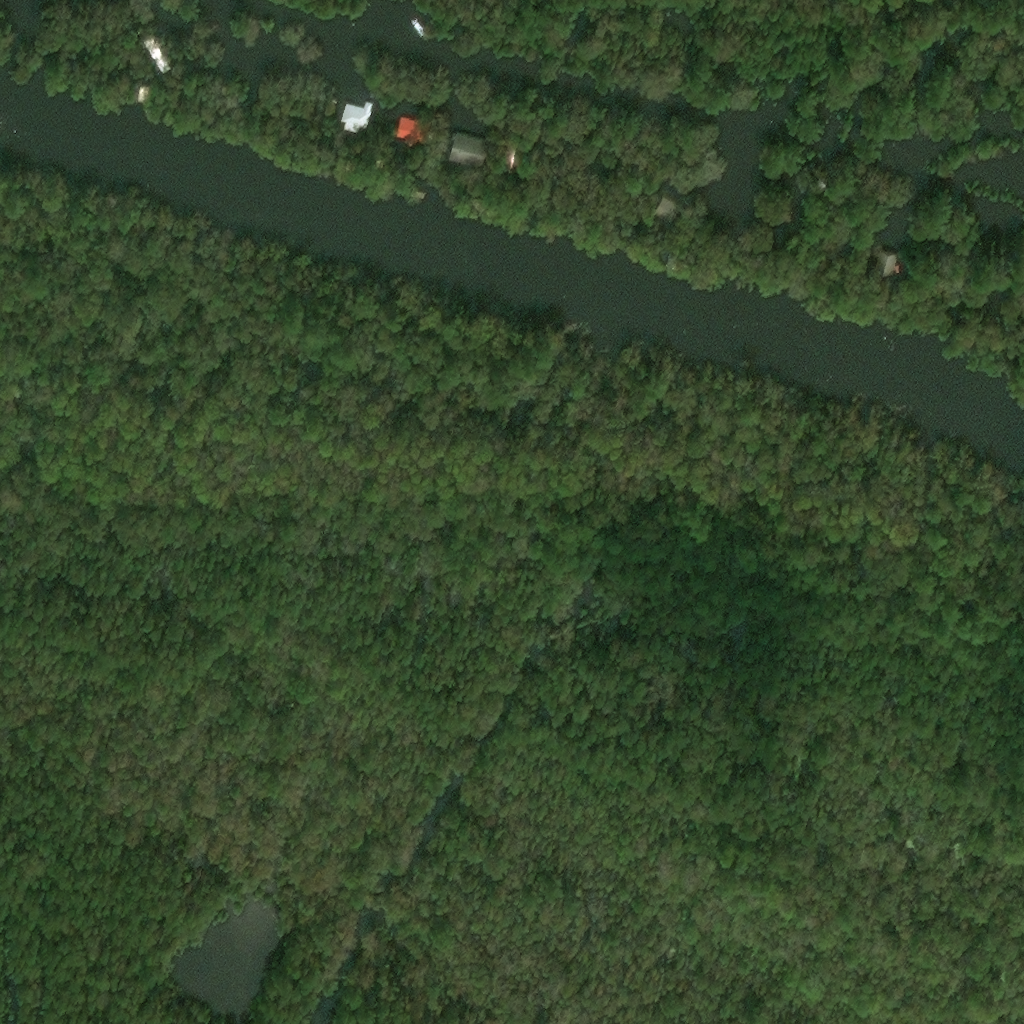major_damage: (444, 130, 483, 160), (391, 115, 431, 143), (336, 98, 371, 129), (139, 36, 168, 70), (650, 192, 680, 222), (873, 248, 895, 272), (11, 0, 38, 18), (774, 200, 792, 215), (499, 159, 517, 172)
